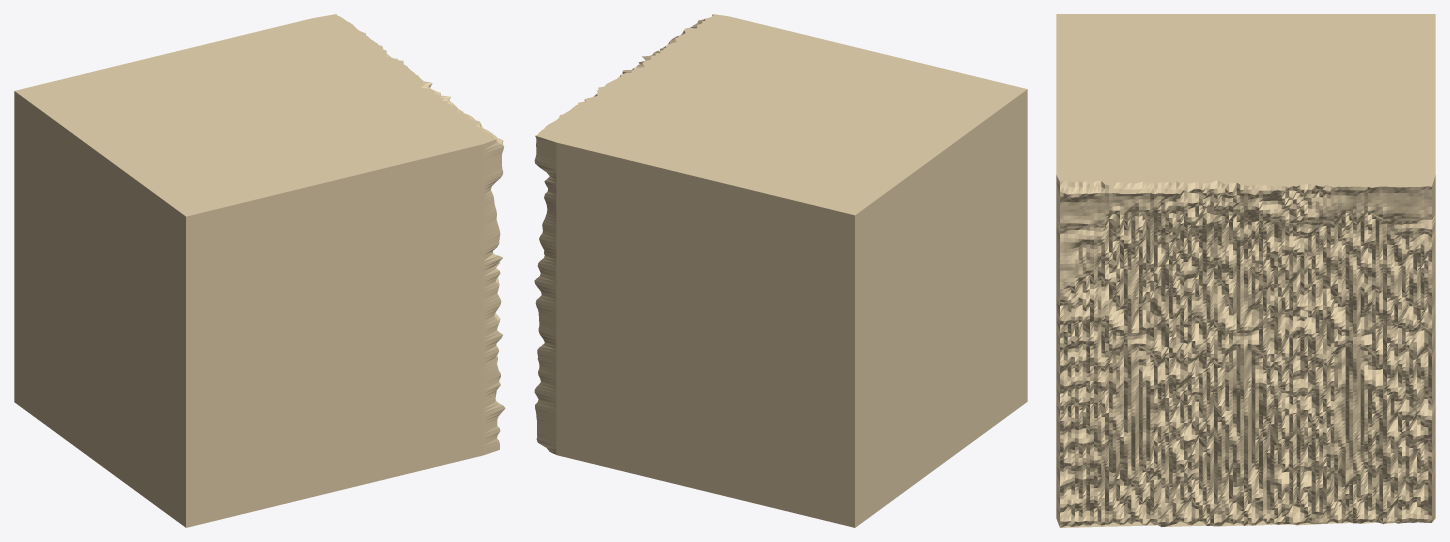
File: top7.png.obj
3 views of the same model, side by side, from view 1: azimuth 30°, elevation 25°; view 2: azimuth 150°, elevation 25°; view 3: azimuth 270°, elevation 25° (orthographic). The views are drawn at different scales.
Visible parts, largest first — view 1: Cube; view 2: Cube; view 3: Cube.
Boxes of the visible parts, x1,y1,x2,y2 form: Cube: [14, 14, 505, 527]; Cube: [534, 14, 1027, 527]; Cube: [1056, 14, 1435, 527].
Size of the model in its own units: 1.09 by 1 by 1.
